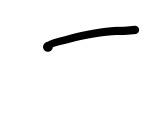minus: (43, 26, 140, 53)
